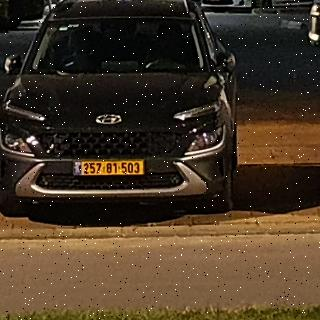LicensePlate: (82, 162, 143, 175)
